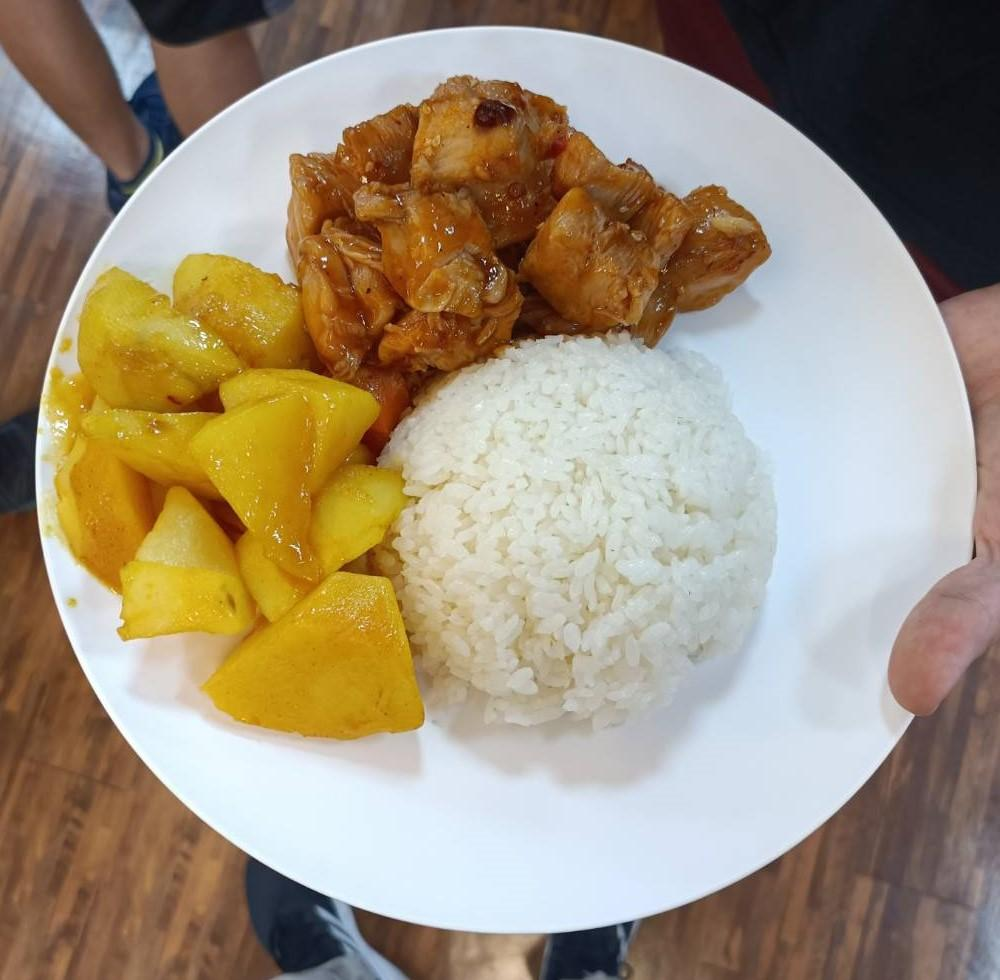big fried chicken leg: (8, 16, 997, 948)
big herbal chicken leg: (362, 328, 792, 759)
braised fish fillet: (56, 248, 423, 753)
braised pork: (269, 73, 775, 375)
